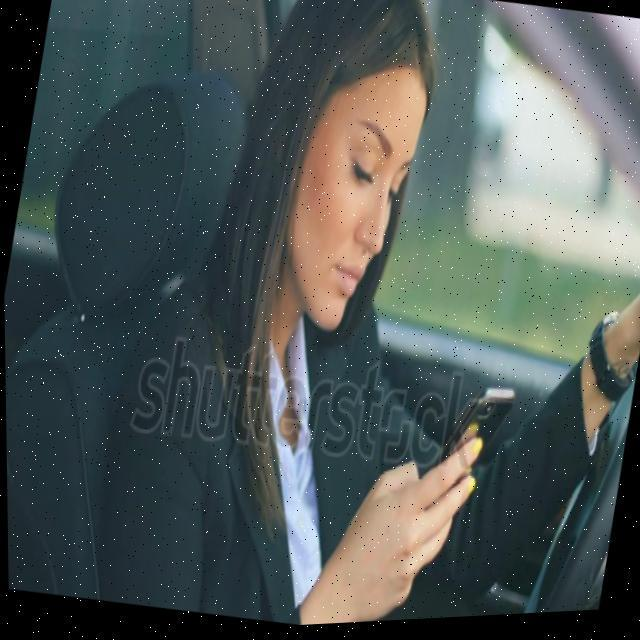PhoneCall: (426, 378, 514, 486)
